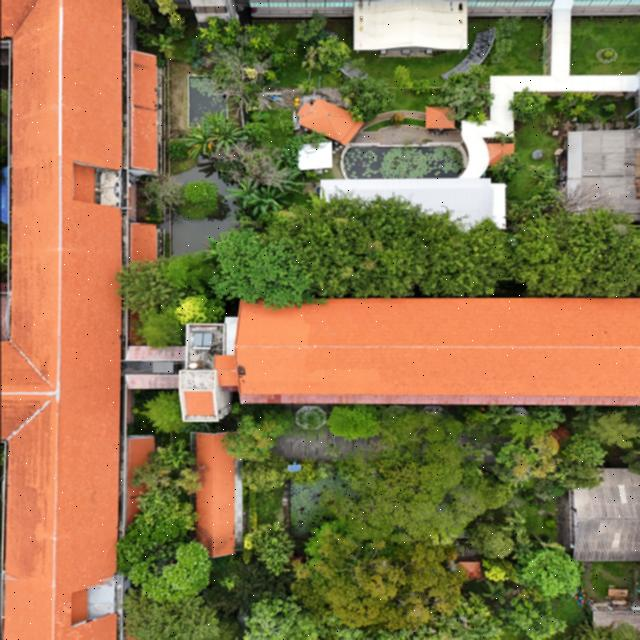Tree: (326, 408, 381, 440), (469, 524, 514, 556), (173, 294, 214, 324), (510, 90, 548, 119), (157, 438, 189, 471), (230, 182, 265, 206), (182, 183, 220, 203), (247, 34, 265, 50), (569, 105, 585, 116), (600, 102, 616, 113), (578, 92, 594, 102)
